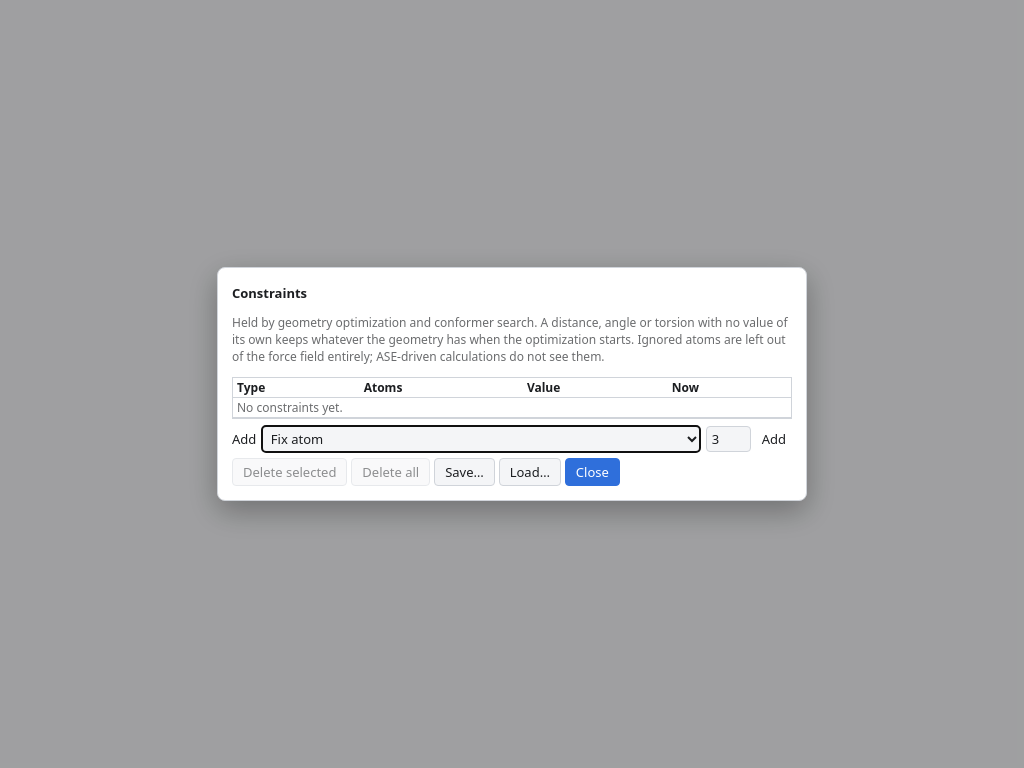
Scenario: the selection fills the atom fields and a distance constraint is added from them
Select "Distance" in the dropdown labelled "Add" at point(481, 438), box [261,424,701,452]
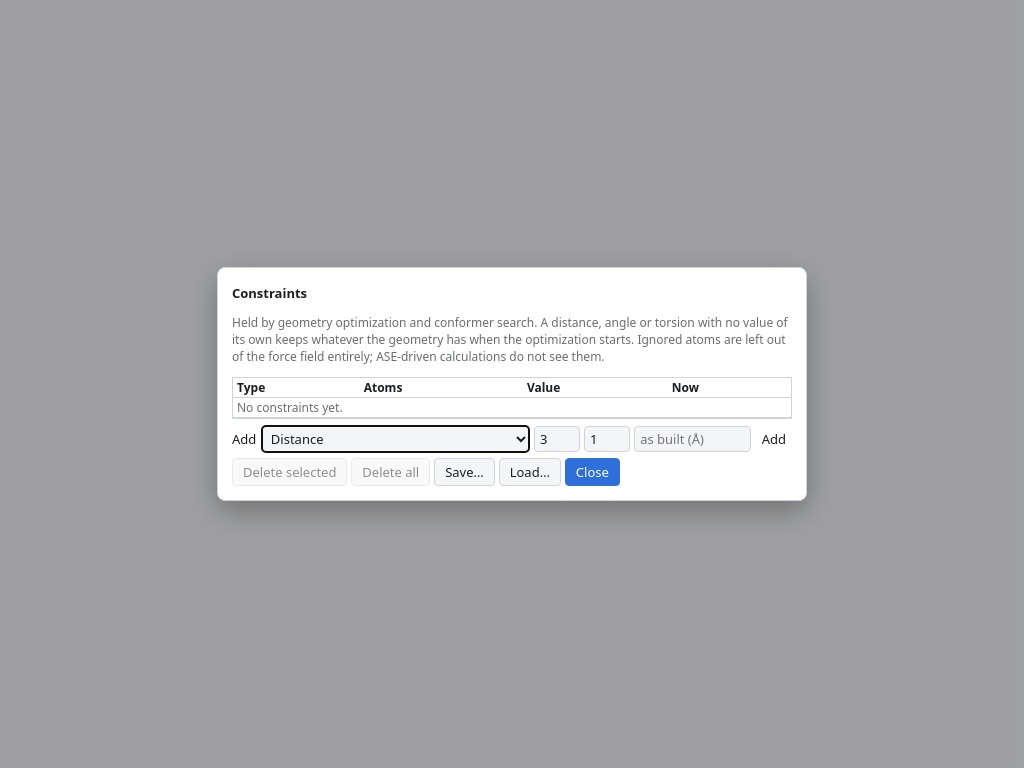
Expected: the field named "atom 1" holds "3", [534,426,580,452]
Expected: the field named "atom 2" holds "1", [584,426,630,452]
Type "1.2" into the field named "target value" at point(693, 438), box [634,426,751,452]
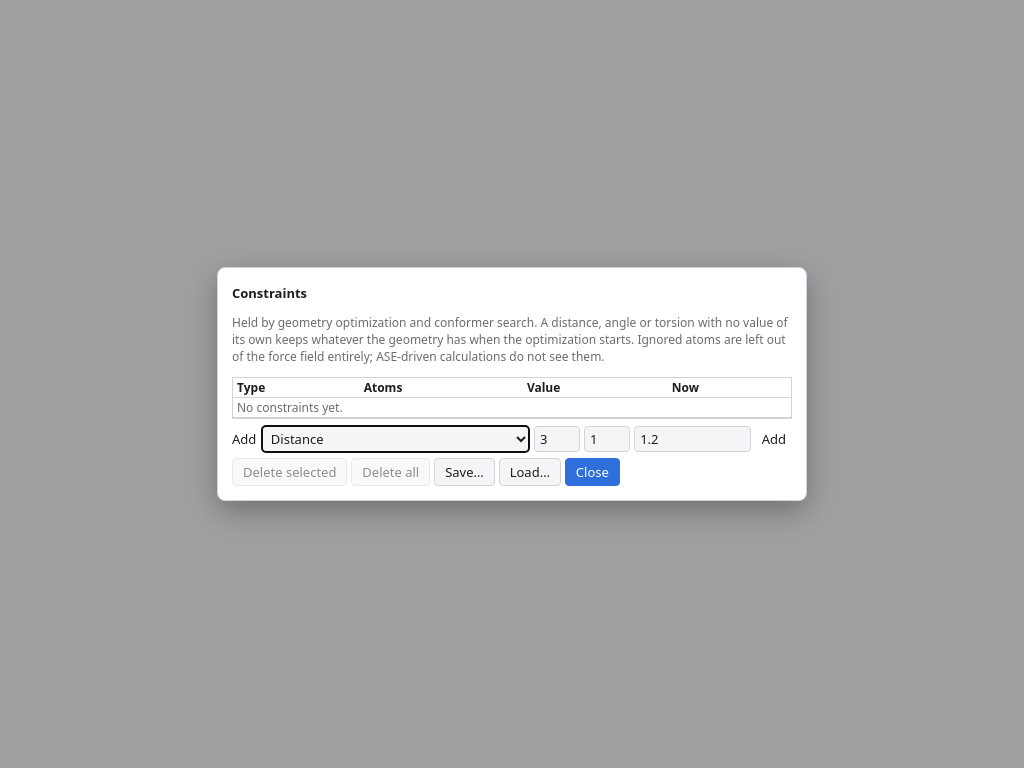
Click the button "Add" at point(774, 438), box [756,428,792,448]
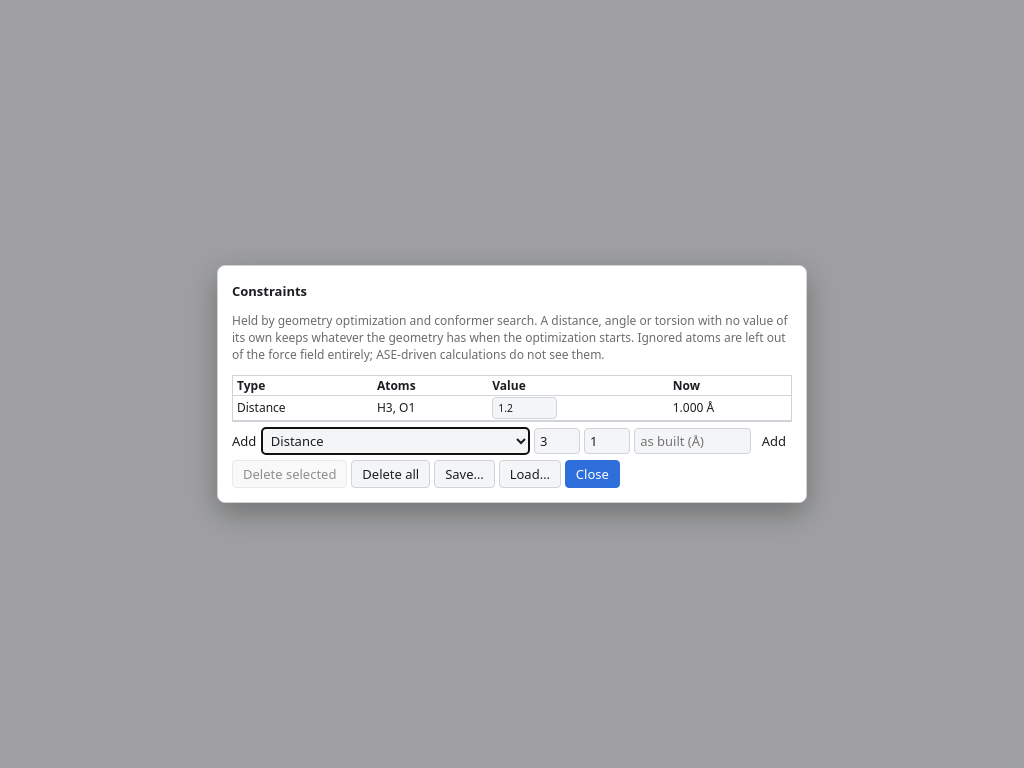
Expected: the cell "Distance" is shown, [233,395,373,420]
Expected: the text "H3, O1" is shown, [373,395,488,420]
Expected: the text "1.000 Å" is shown, [669,395,791,420]
